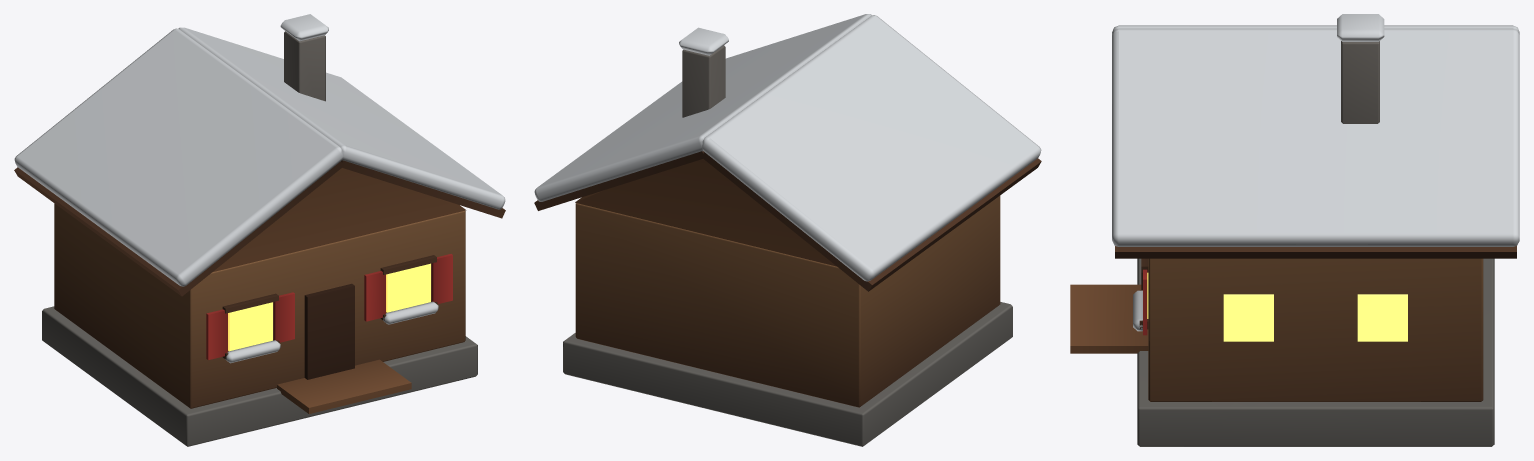
File: prop.glacier_hut.lod1.glb
The picture shows the model from 3 angles, left to right: view 1: azimuth 30°, elevation 25°; view 2: azimuth 150°, elevation 25°; view 3: azimuth 270°, elevation 25°; orthographic projection. The views are drawn at different scales.
Visible parts, largest first — view 1: glacier_hut; view 2: glacier_hut; view 3: glacier_hut.
Part boxes in pixels (x1,y1,x2,y2): glacier_hut: [14, 14, 505, 446]; glacier_hut: [534, 14, 1041, 446]; glacier_hut: [1070, 14, 1519, 446].
Bounding box in the file's own units: 8.32 × 7.45 × 8.05.
